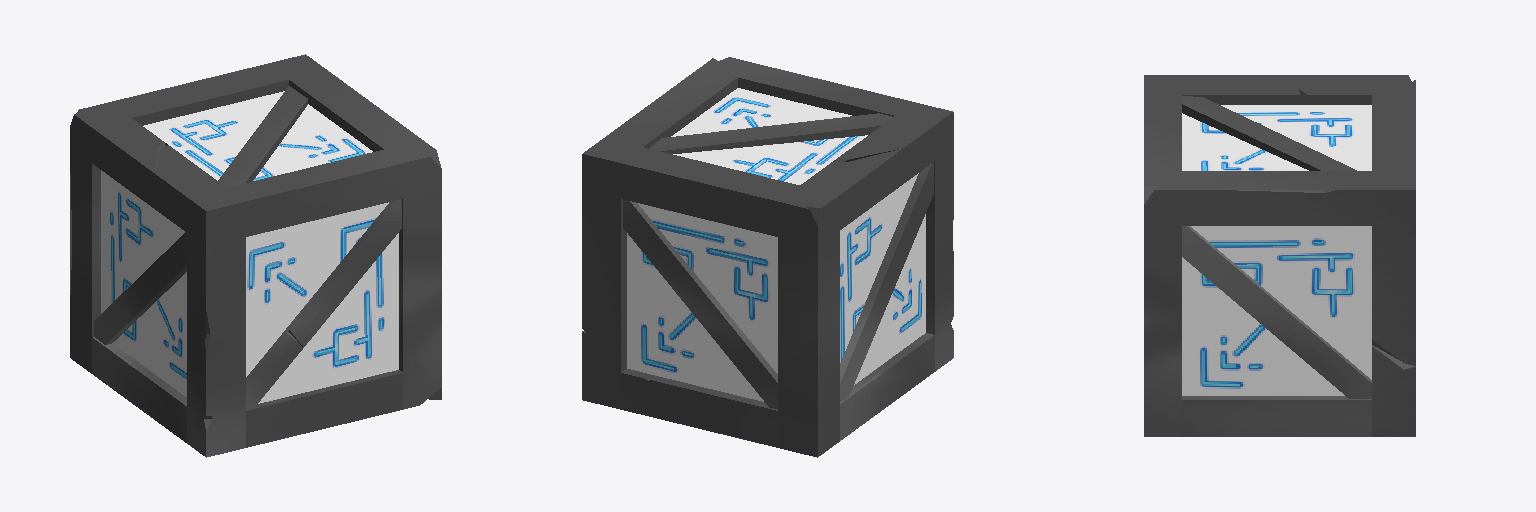
3 views of the same model, side by side, from view 1: azimuth 30°, elevation 25°; view 2: azimuth 150°, elevation 25°; view 3: azimuth 270°, elevation 25° (orthographic).
Parts seen in each view (by area): view 1: Cube.006; view 2: Cube.006; view 3: Cube.006.
Boxes of the visible parts, x1=… form: Cube.006: x1=70, y1=54, x2=441, y2=457; Cube.006: x1=582, y1=57, x2=953, y2=457; Cube.006: x1=1144, y1=75, x2=1415, y2=436.
Size of the model in its own units: 2 by 2 by 2.
Materials: 1 (1 with a texture image).